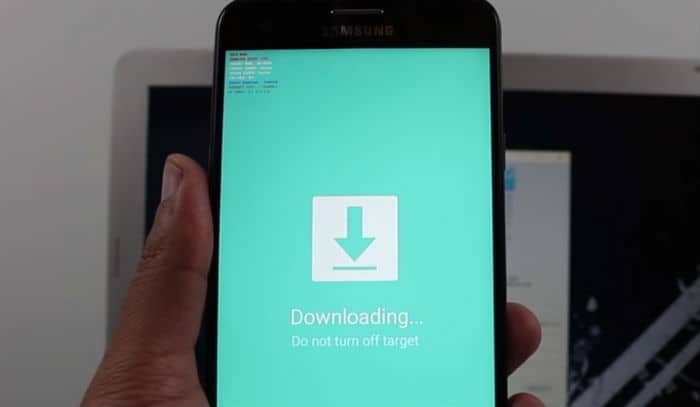phone: (199, 1, 512, 407)
